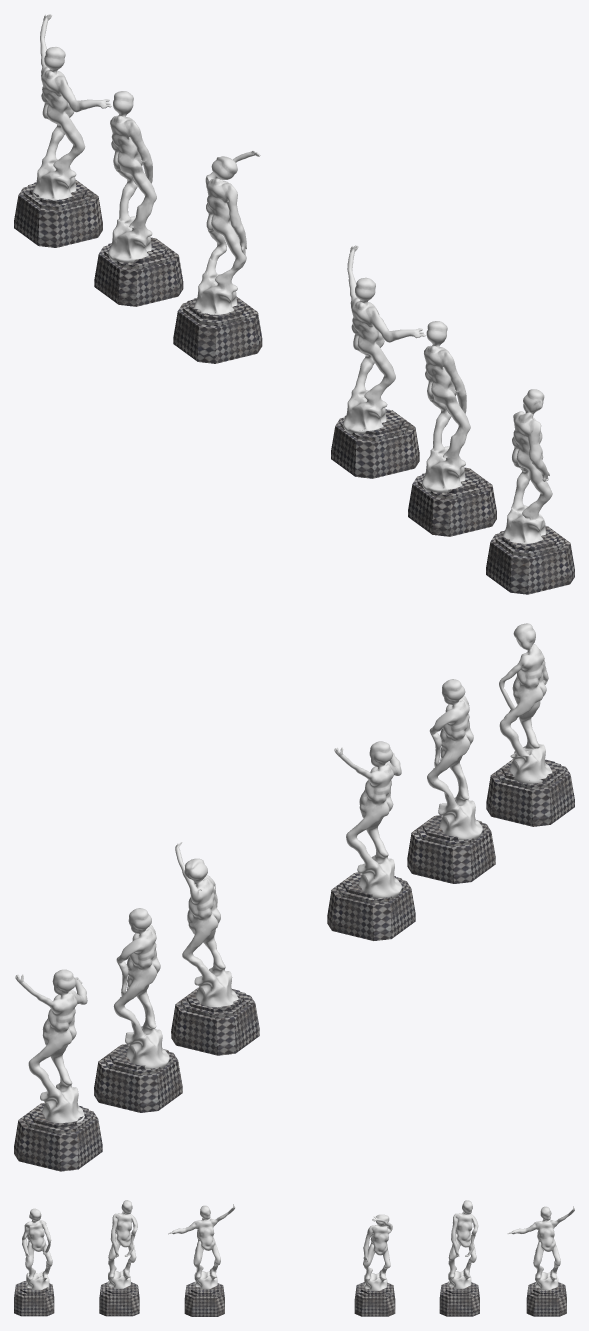
The model's file is SM_ImpassNew_Statue02.fbx.
3 views of the same model, one above another, from view 1: azimuth 30°, elevation 25°; view 2: azimuth 150°, elevation 25°; view 3: azimuth 270°, elevation 25° (orthographic). The views are drawn at different scales.
Visible parts, largest first — view 1: SM_ImpassNew_Statue02; view 2: SM_ImpassNew_Statue02; view 3: SM_ImpassNew_Statue02.
Boxes of the visible parts, x1,y1,x2,y2 form: SM_ImpassNew_Statue02: (14,14,574,594); SM_ImpassNew_Statue02: (14,623,574,1171); SM_ImpassNew_Statue02: (14,1200,574,1316).
Bounding box in the file's own units: 272 × 676 × 3264.
